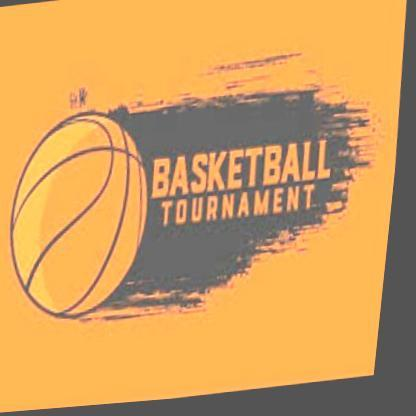basketball: (3, 108, 165, 329)
